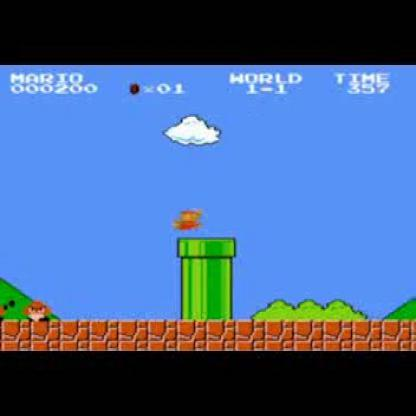Goomba: (28, 300, 50, 322)
